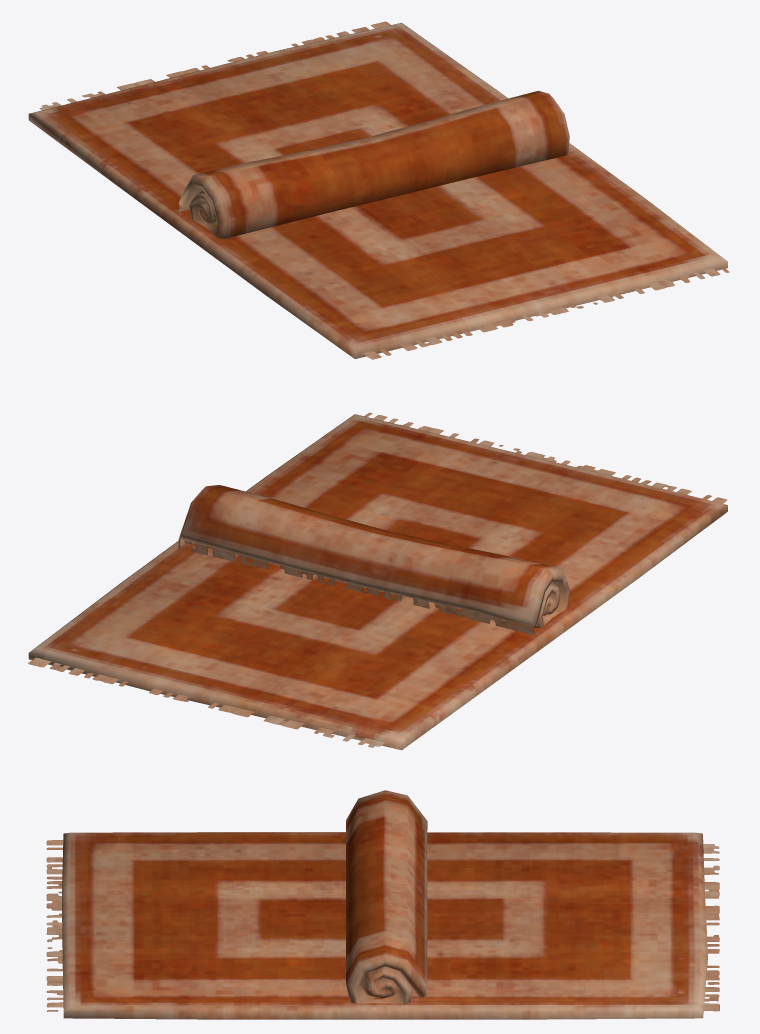
File: chRug.fbx
3 views of the same model, one above another, from view 1: azimuth 30°, elevation 25°; view 2: azimuth 150°, elevation 25°; view 3: azimuth 270°, elevation 25° (orthographic). The views are drawn at different scales.
Parts seen in each view (by area): view 1: Rug, RugRoll; view 2: Rug, RugRoll; view 3: Rug, RugRoll.
Boxes of the visible parts, x1,y1,x2,y2 form: Rug: (28, 21, 729, 359); RugRoll: (178, 91, 569, 238); Rug: (28, 412, 727, 750); RugRoll: (178, 485, 569, 635); Rug: (46, 832, 719, 1019); RugRoll: (346, 790, 427, 1003).
Size of the model in its own units: 3.83 by 2.23 by 0.334.
